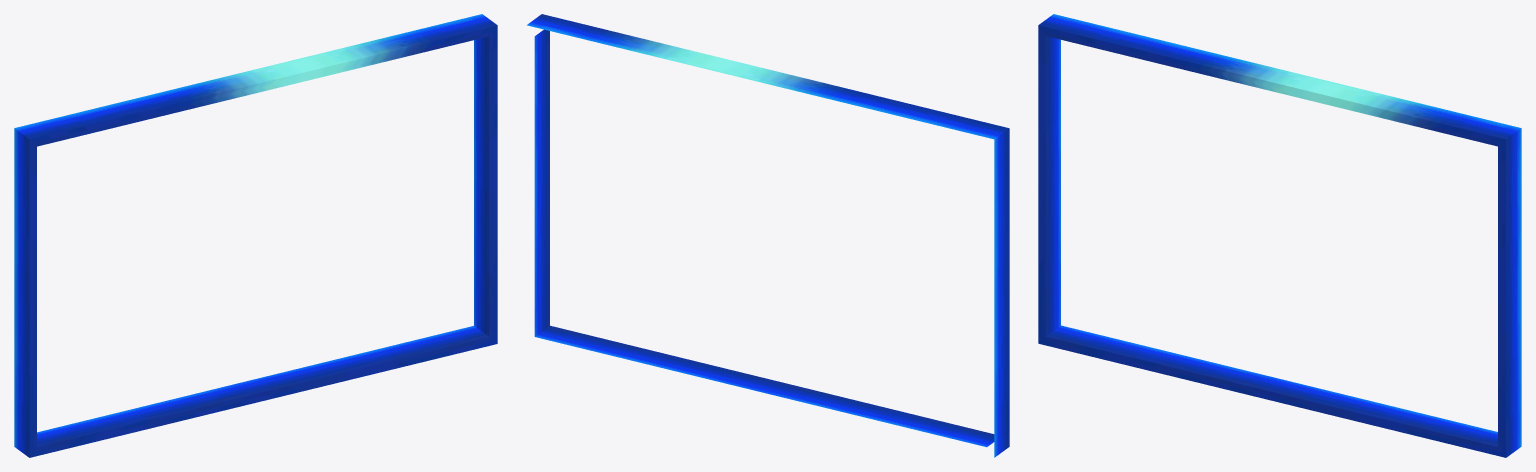
File: screen_left.glb
The picture shows the model from 3 angles, left to right: view 1: azimuth 30°, elevation 25°; view 2: azimuth 150°, elevation 25°; view 3: azimuth 330°, elevation 25°; orthographic projection.
Parts seen in each view (by area): view 1: screen_left_introShape; view 2: screen_left_introShape; view 3: screen_left_introShape.
Boxes of the visible parts, x1=… form: screen_left_introShape: x1=14, y1=14, x2=497, y2=457; screen_left_introShape: x1=527, y1=14, x2=1009, y2=457; screen_left_introShape: x1=1038, y1=14, x2=1521, y2=457.
Size of the model in its own units: 159 by 103 by 9.06.
1 material, 1 textured.
